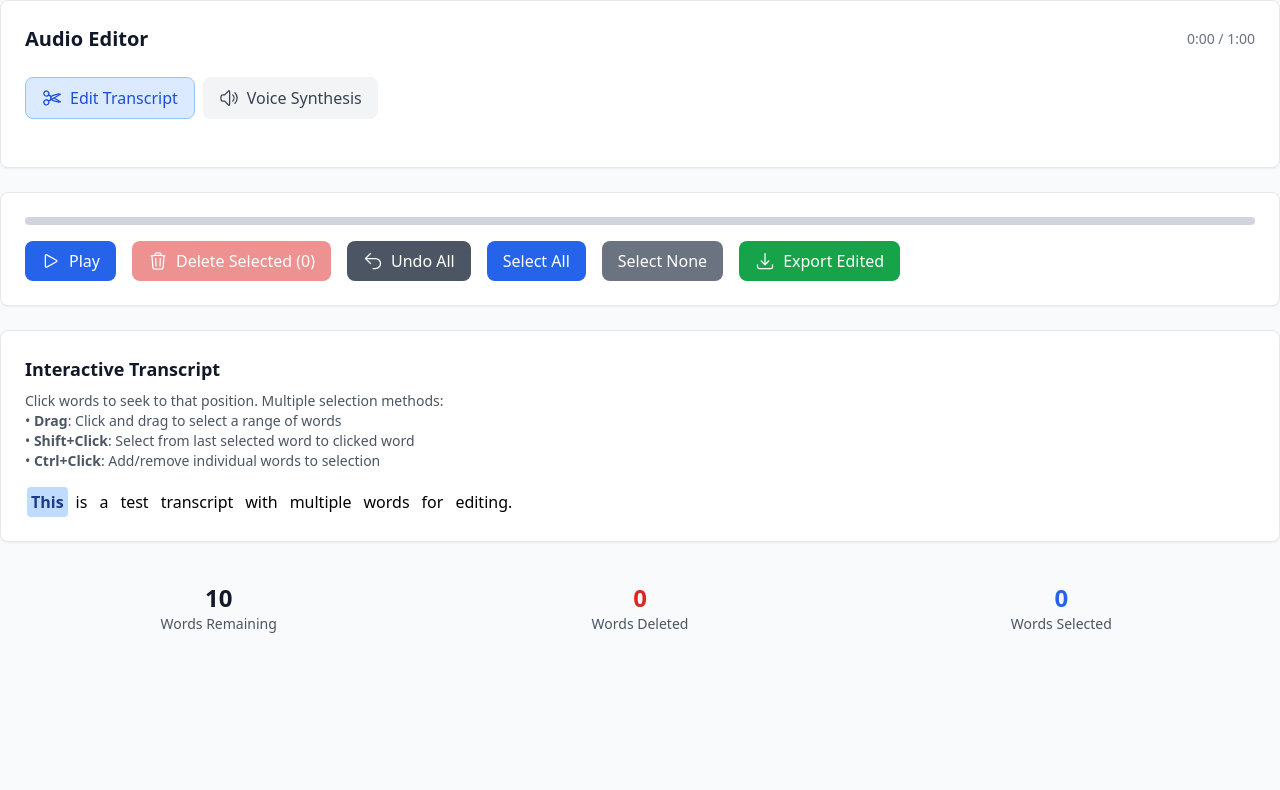
Scenario: AudioEditor › can switch to voice synthesis tab
The width and height of the screenshot is (1280, 790).
Click the button "Voice Synthesis" at x=290, y=98, box left=203, top=77, right=378, bottom=119
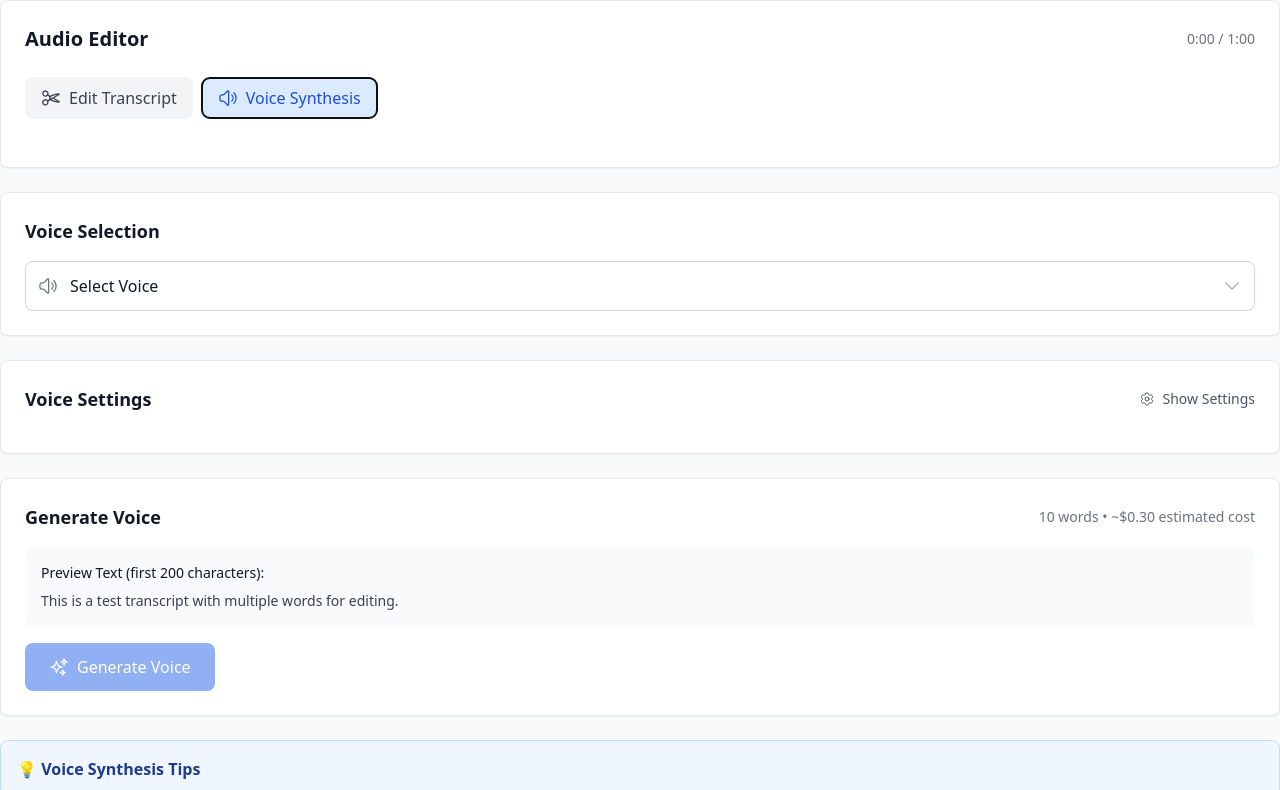
Now the text "Select Voice" is shown, box left=70, top=274, right=158, bottom=298
